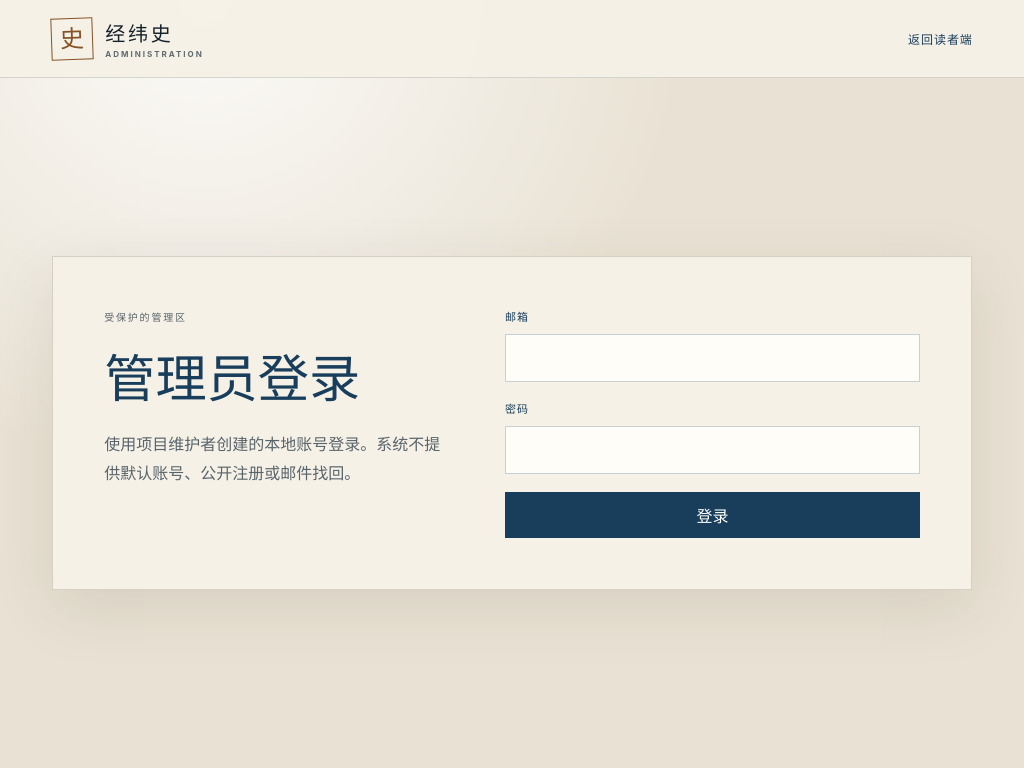
Scenario: 管理区身份边界 › 未认证时只显示登录表单，并在登录后展示当前身份
Check: the heading "管理员登录" is shown, box x1=104 y1=351 x2=360 y2=408
Check: the text "admin@example.com" is not shown
Type "admin@example.com" into the field labelled "邮箱" at (712, 358), box x1=505 y1=334 x2=920 y2=382
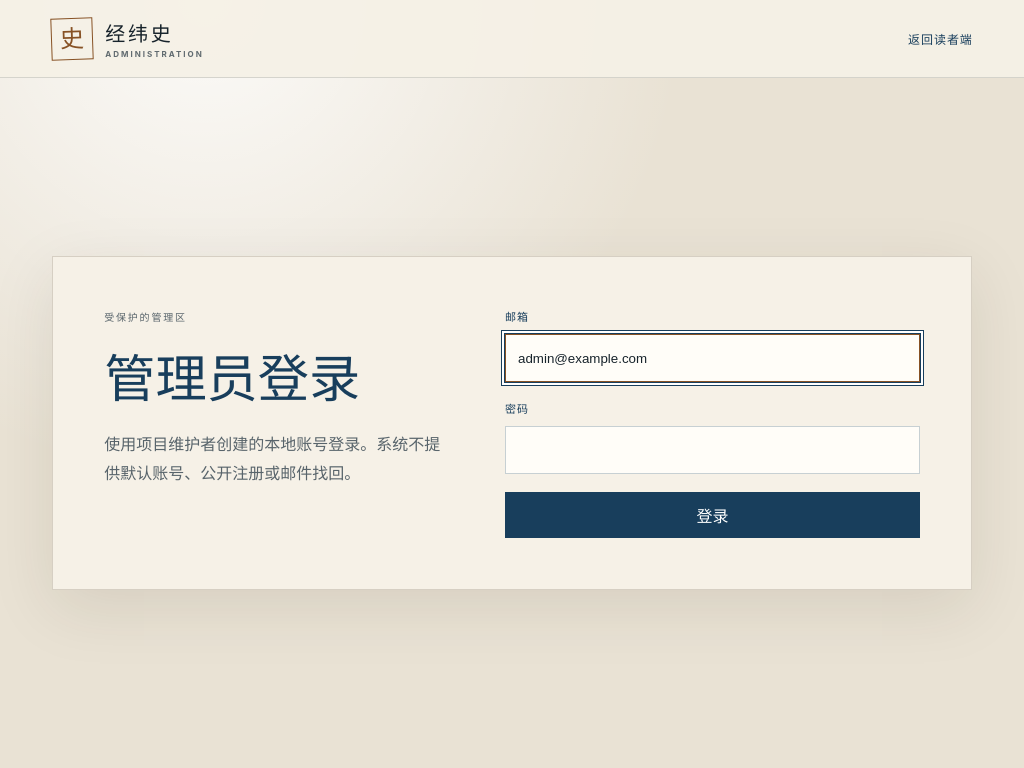
Type "correct horse battery staple" into the password field labelled "密码" at (712, 450), box x1=505 y1=426 x2=920 y2=474
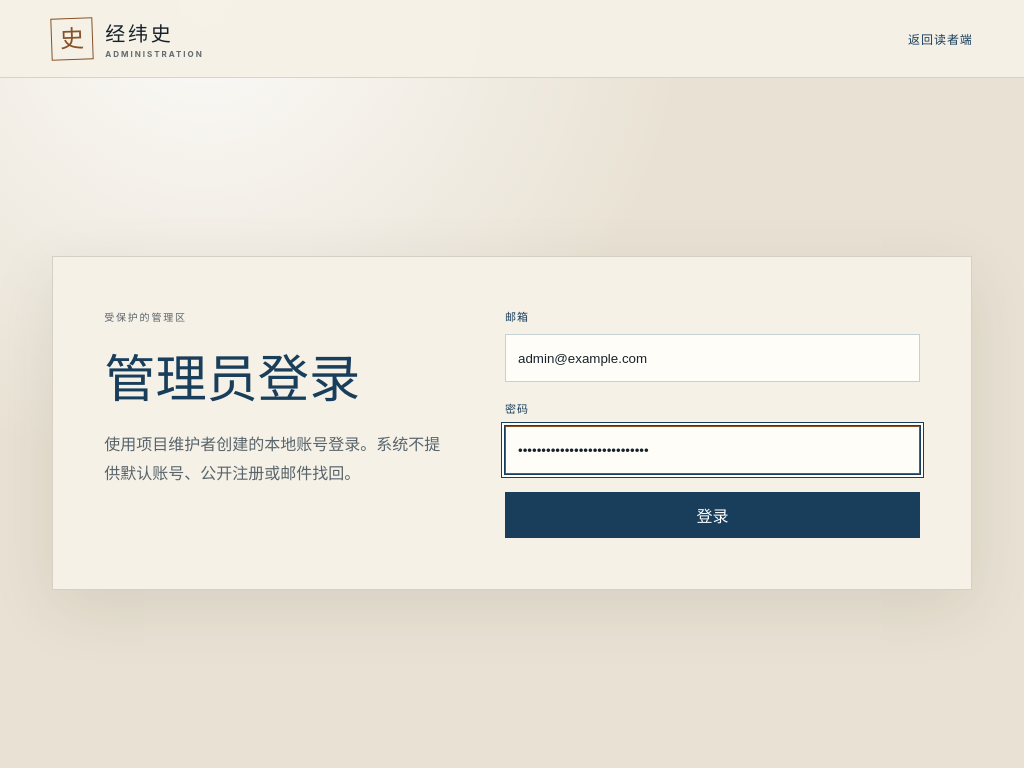
Click the button "登录" at (712, 515), box x1=505 y1=492 x2=920 y2=538
(page scrolled)
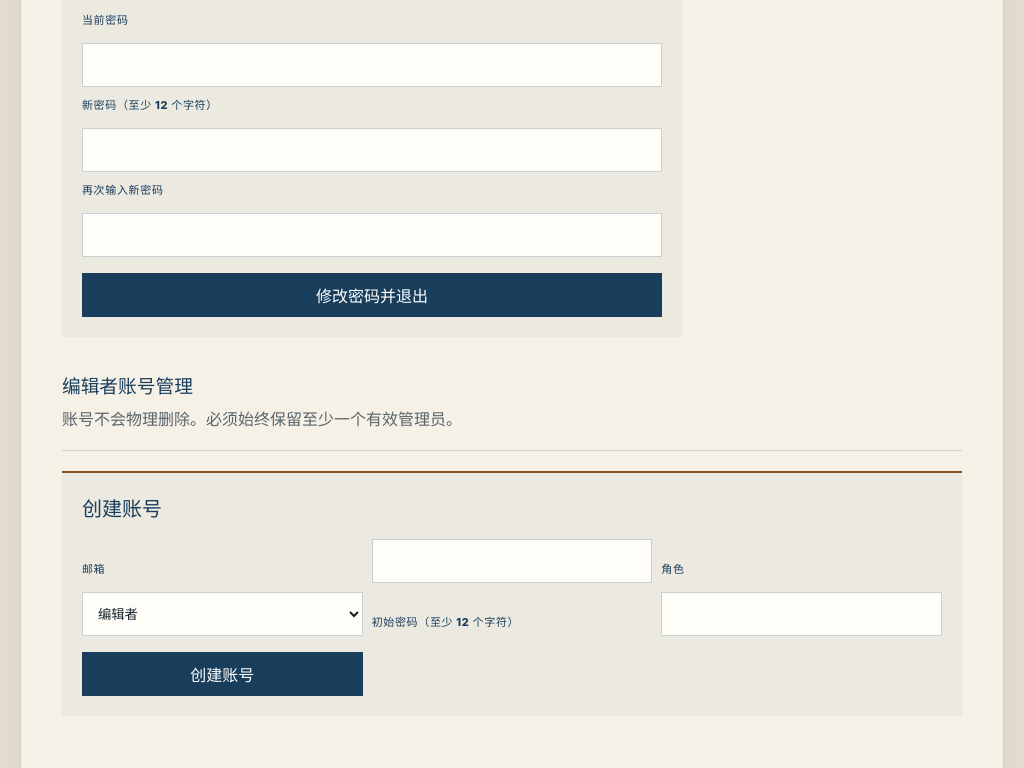
Check: the heading "编辑者账号管理" is shown, box x1=62 y1=376 x2=193 y2=397
